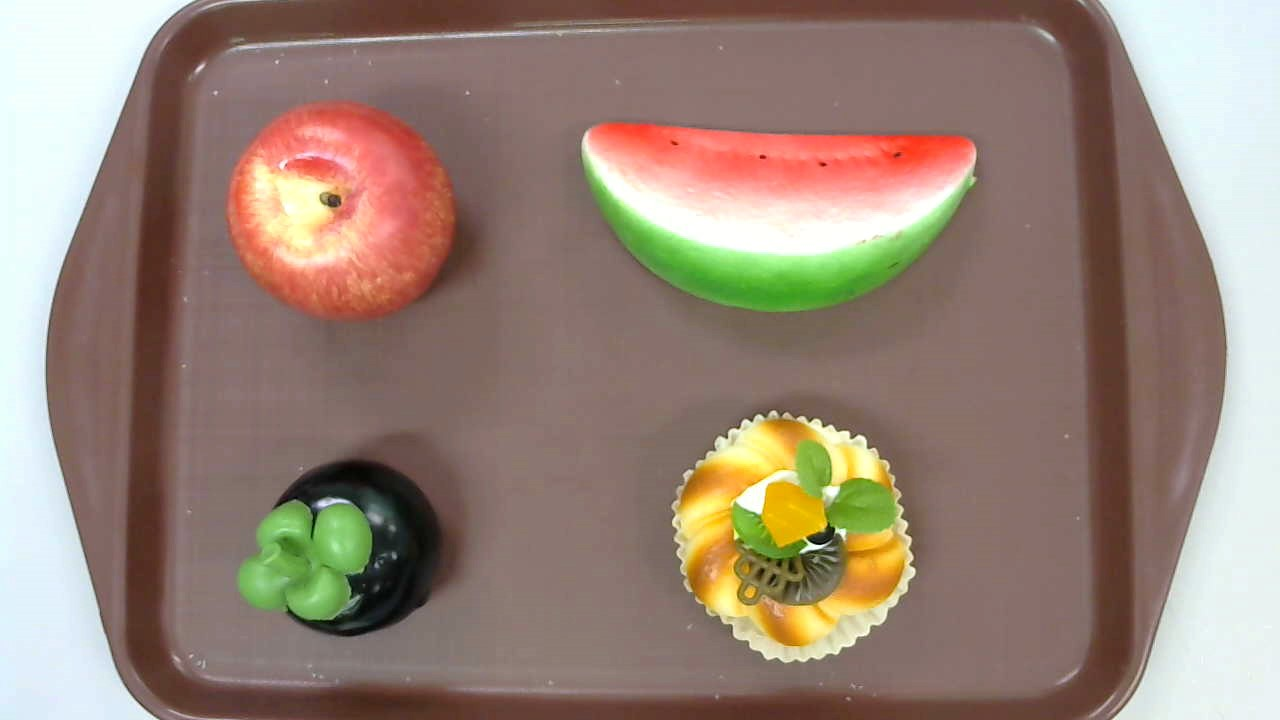fruit tart: (672, 410, 916, 665)
mangosteen: (234, 457, 443, 639)
red apple: (228, 98, 459, 324)
water melon: (579, 121, 981, 314)
